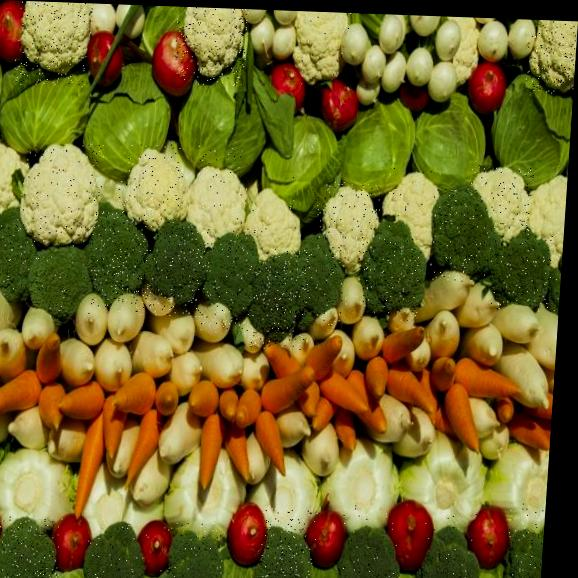Broccoli: (430, 186, 500, 284), (140, 223, 207, 317), (88, 210, 149, 313), (250, 248, 311, 350), (199, 227, 256, 334), (361, 229, 423, 321), (293, 238, 351, 329), (29, 242, 94, 319), (491, 234, 554, 312), (338, 502, 400, 578), (257, 506, 319, 578), (0, 515, 63, 578), (158, 519, 225, 578), (419, 511, 477, 578), (85, 519, 150, 578), (503, 502, 546, 578), (0, 217, 38, 296), (553, 241, 563, 322)
Cauliflower: (16, 141, 105, 259), (13, 1, 93, 87), (382, 163, 446, 266), (190, 146, 251, 248), (173, 7, 249, 86), (116, 143, 185, 229), (465, 165, 535, 245), (314, 182, 382, 262), (287, 11, 352, 94), (248, 170, 304, 256), (525, 20, 578, 94), (0, 134, 35, 220)
